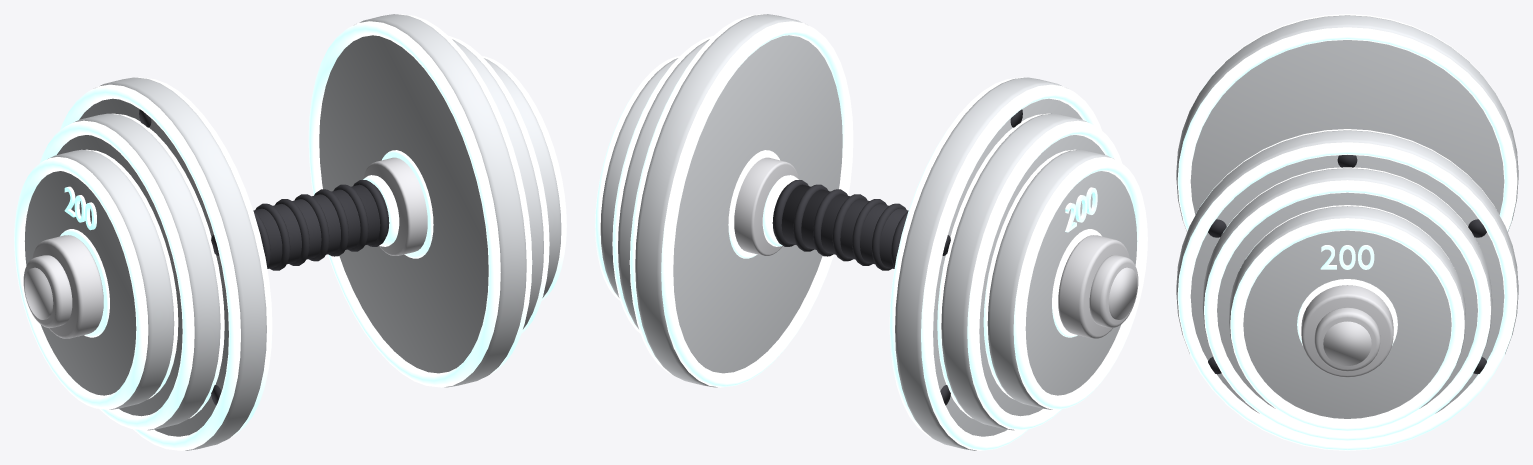
Rendered from dm_platinum200kg.glb.
3 views of the same model, side by side, from view 1: azimuth 30°, elevation 25°; view 2: azimuth 150°, elevation 25°; view 3: azimuth 270°, elevation 25° (orthographic). The views are drawn at different scales.
Parts seen in each view (by area): view 1: Platinum200kg_Plate0.001, Platinum200kg_Plate2, Platinum200kg_Plate0, Platinum200kg_Plate1, Platinum200kg_PlateRimIn0.001, Platinum200kg_PlateRim2, Platinum200kg_PlateRim0, Platinum200kg_PlateRim1, Platinum200kg_Grip, Platinum200kg_Collar, Platinum200kg_Plate1.001, Platinum200kg_InnerCollar.001 (+19 smaller); view 2: Platinum200kg_Plate0.001, Platinum200kg_Plate2, Platinum200kg_Plate0, Platinum200kg_Plate1, Platinum200kg_PlateRimIn0.001, Platinum200kg_PlateRim2, Platinum200kg_PlateRim0, Platinum200kg_PlateRim1, Platinum200kg_Grip, Platinum200kg_Collar, Platinum200kg_Plate1.001, Platinum200kg_InnerCollar.001 (+19 smaller); view 3: Platinum200kg_Plate0, Platinum200kg_Plate2.001, Platinum200kg_PlateRim0.001, Platinum200kg_Plate0.001, Platinum200kg_PlateRim1.001, Platinum200kg_Plate1.001, Platinum200kg_PlateRim2.001, Platinum200kg_PlateRimIn0, Platinum200kg_Collar.001, Platinum200kg_EndCap.001, Platinum200kg_Bar, Platinum200kg_Hub2.001 (+5 smaller).
Part boxes in pixels (left/top/right/bottom): Platinum200kg_Plate0.001: left=319, top=14, right=526, bottom=387; Platinum200kg_Plate2: left=24, top=149, right=174, bottom=409; Platinum200kg_Plate0: left=79, top=77, right=266, bottom=450; Platinum200kg_Plate1: left=57, top=113, right=220, bottom=430; Platinum200kg_PlateRimIn0.001: left=308, top=21, right=500, bottom=387; Platinum200kg_PlateRim2: left=14, top=157, right=148, bottom=409; Platinum200kg_PlateRim0: left=60, top=84, right=240, bottom=450; Platinum200kg_PlateRim1: left=40, top=120, right=194, bottom=430; Platinum200kg_Grip: left=253, top=184, right=389, bottom=268; Platinum200kg_Collar: left=32, top=235, right=103, bottom=338; Platinum200kg_Plate1.001: left=452, top=39, right=543, bottom=328; Platinum200kg_InnerCollar.001: left=362, top=157, right=427, bottom=255; Platinum200kg_Plate0.001: left=635, top=14, right=842, bottom=387; Platinum200kg_Plate2: left=987, top=149, right=1137, bottom=409; Platinum200kg_Plate0: left=895, top=77, right=1082, bottom=450; Platinum200kg_Plate1: left=941, top=113, right=1104, bottom=430; Platinum200kg_PlateRimIn0.001: left=661, top=21, right=853, bottom=387; Platinum200kg_PlateRim2: left=1013, top=157, right=1147, bottom=409; Platinum200kg_PlateRim0: left=921, top=84, right=1101, bottom=450; Platinum200kg_PlateRim1: left=967, top=120, right=1121, bottom=430; Platinum200kg_Grip: left=772, top=184, right=908, bottom=268; Platinum200kg_Collar: left=1058, top=235, right=1129, bottom=338; Platinum200kg_Plate1.001: left=618, top=39, right=709, bottom=328; Platinum200kg_InnerCollar.001: left=734, top=157, right=799, bottom=255; Platinum200kg_Plate0: left=1176, top=15, right=1518, bottom=231; Platinum200kg_Plate2.001: left=1229, top=206, right=1465, bottom=418; Platinum200kg_PlateRim0.001: left=1177, top=142, right=1517, bottom=450; Platinum200kg_Plate0.001: left=1176, top=130, right=1518, bottom=413; Platinum200kg_PlateRim1.001: left=1204, top=180, right=1490, bottom=441; Platinum200kg_Plate1.001: left=1202, top=168, right=1492, bottom=408; Platinum200kg_PlateRim2.001: left=1230, top=218, right=1464, bottom=431; Platinum200kg_PlateRimIn0: left=1177, top=27, right=1517, bottom=231; Platinum200kg_Collar.001: left=1301, top=285, right=1393, bottom=377; Platinum200kg_EndCap.001: left=1314, top=307, right=1380, bottom=371; Platinum200kg_Bar: left=1323, top=321, right=1371, bottom=365; Platinum200kg_Hub2.001: left=1297, top=279, right=1397, bottom=345.
Bounding box in the file's own units: 2.77 × 1.79 × 1.79.
